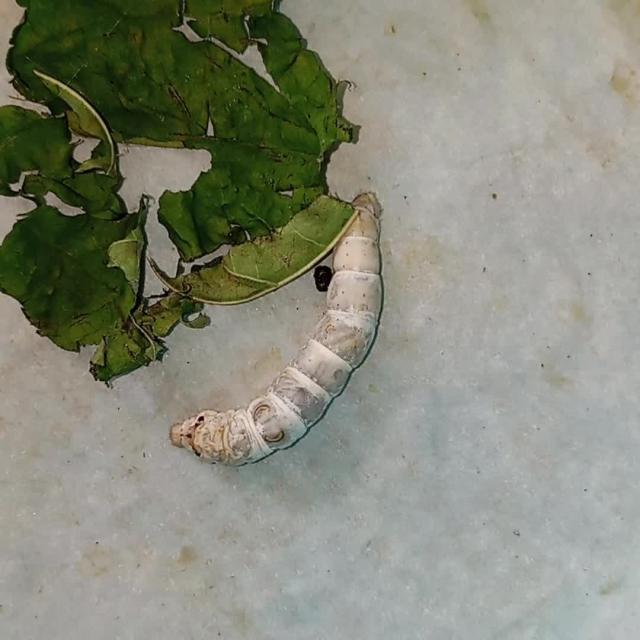Grasserie: (162, 185, 408, 482)
